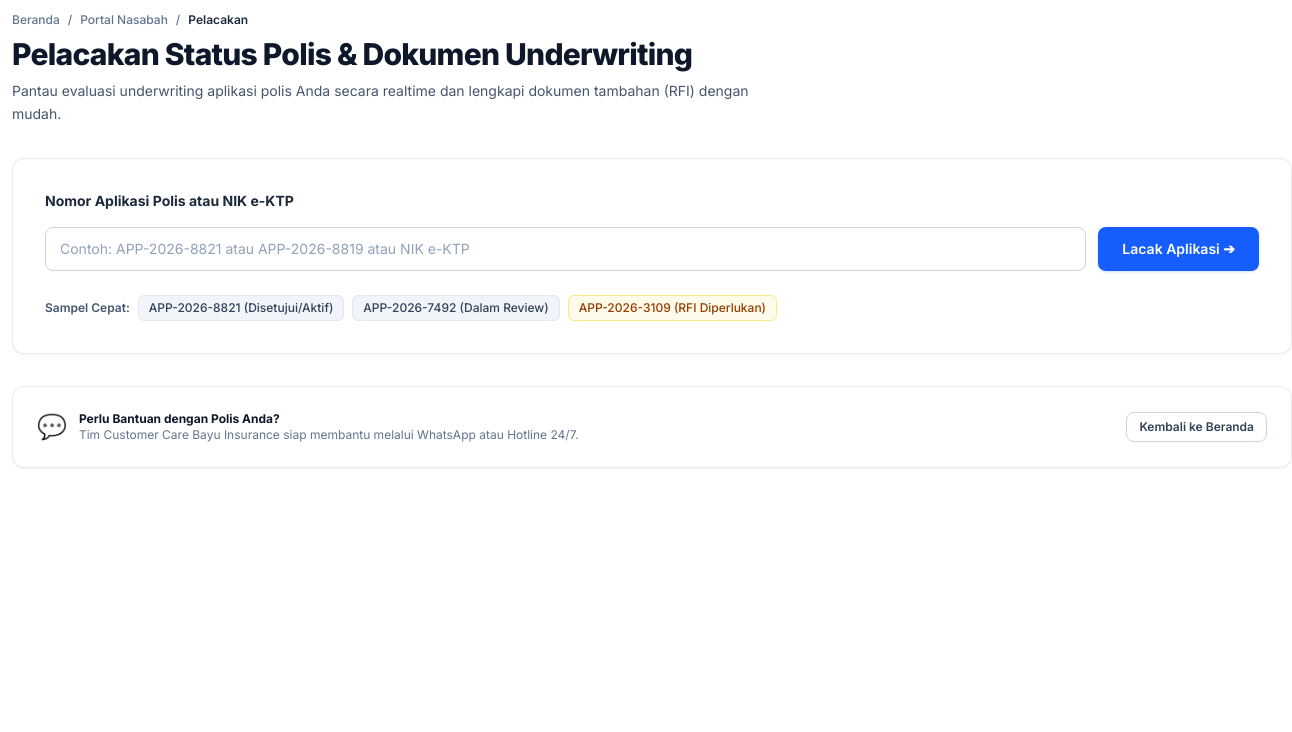
Test case: TrackingPage & TrackingWorkbench › displays validation error when searching with empty input
Step 1. Click the button named "Lacak Status" → (1179, 248), box x1=1098 y1=226 x2=1259 y2=270
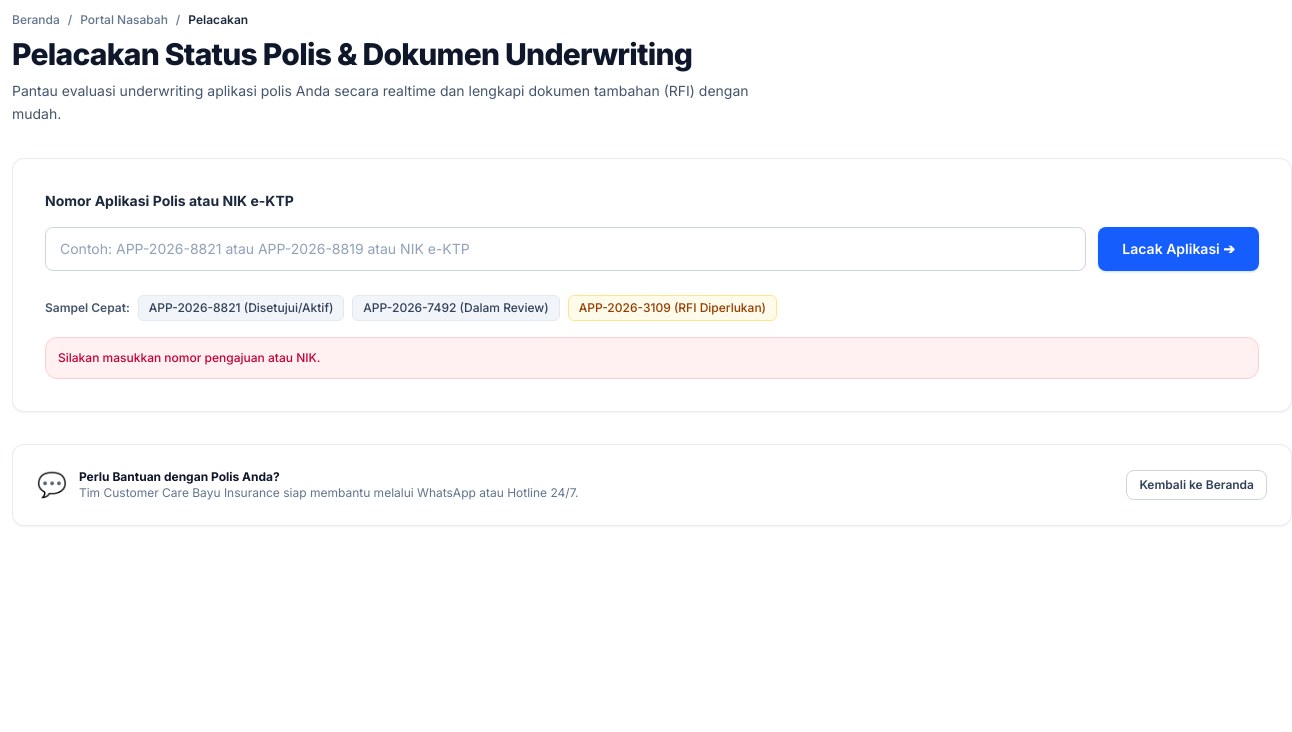
Expected: the text "Silakan masukkan nomor pengajuan atau NIK." is shown, x1=45 y1=336 x2=1259 y2=378
